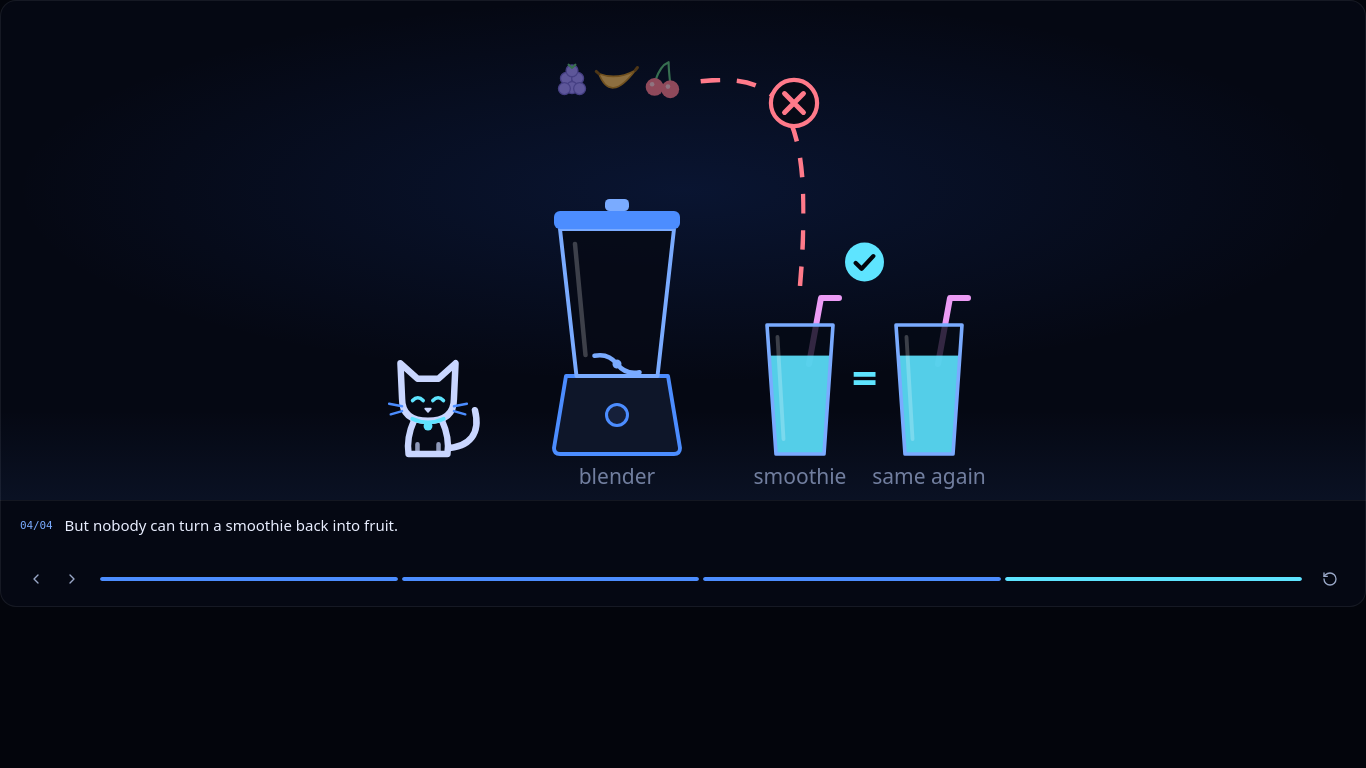
Test: an ELI5 scene › with reduced motion, opens on the finished picture with no play button
Expected: the text "same again" is shown, [872,462,986,490]
Click the button named "Previous step" at (36, 579), box [20,563,52,595]
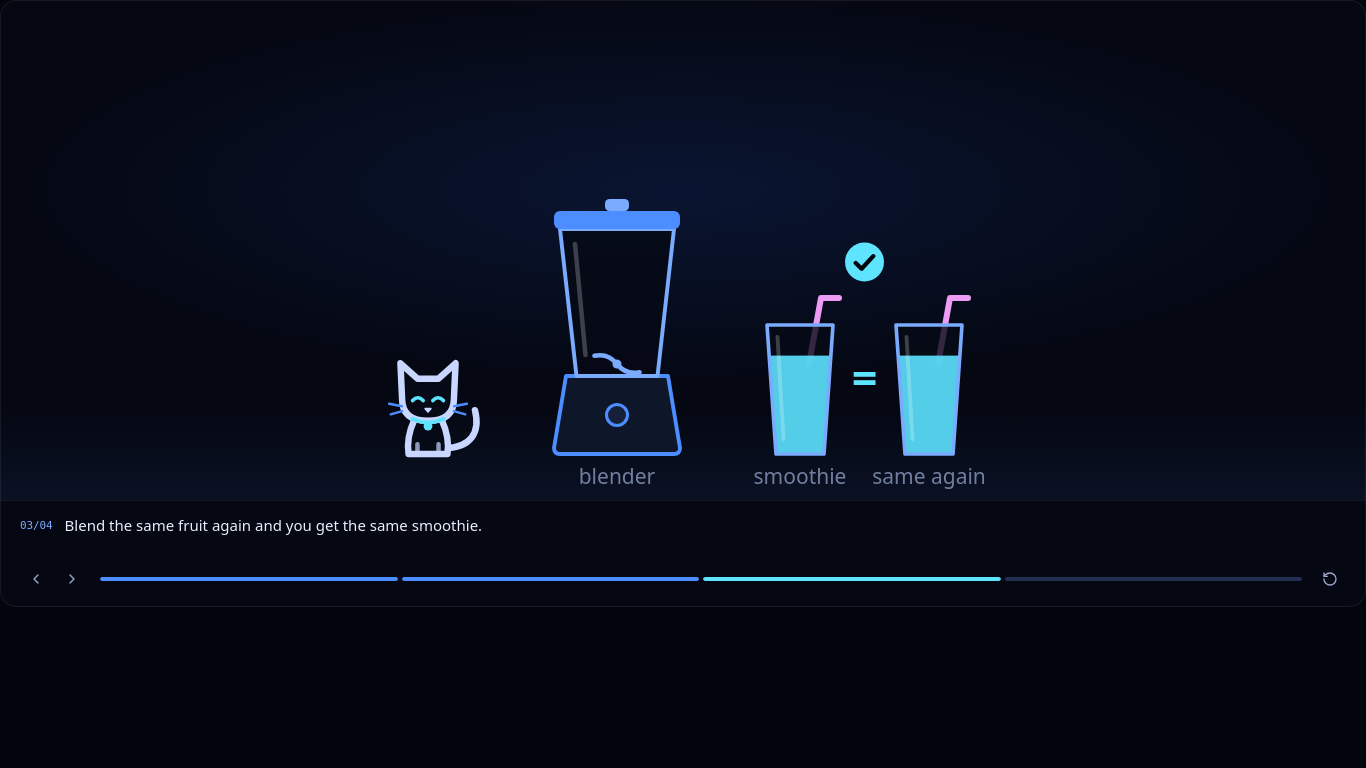
Result: the text "Blend the same fruit again and you get the same smoothie." is shown at [65,515,482,535]
